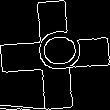O_W: (28, 32, 82, 78)
